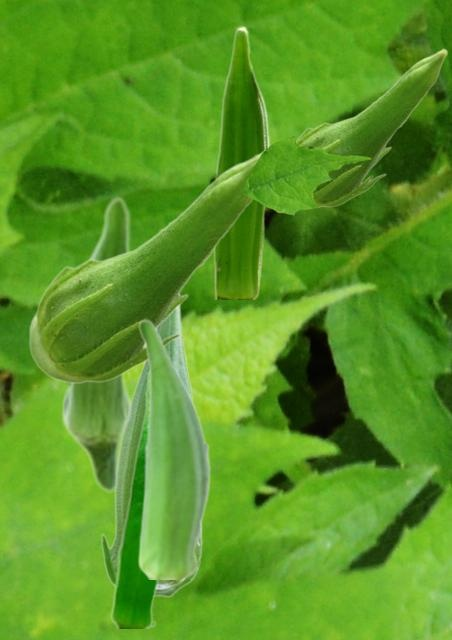okra: (28, 150, 264, 383), (100, 305, 202, 597), (296, 48, 447, 207), (60, 195, 132, 493), (137, 318, 210, 578), (213, 25, 270, 298), (110, 370, 160, 627)
